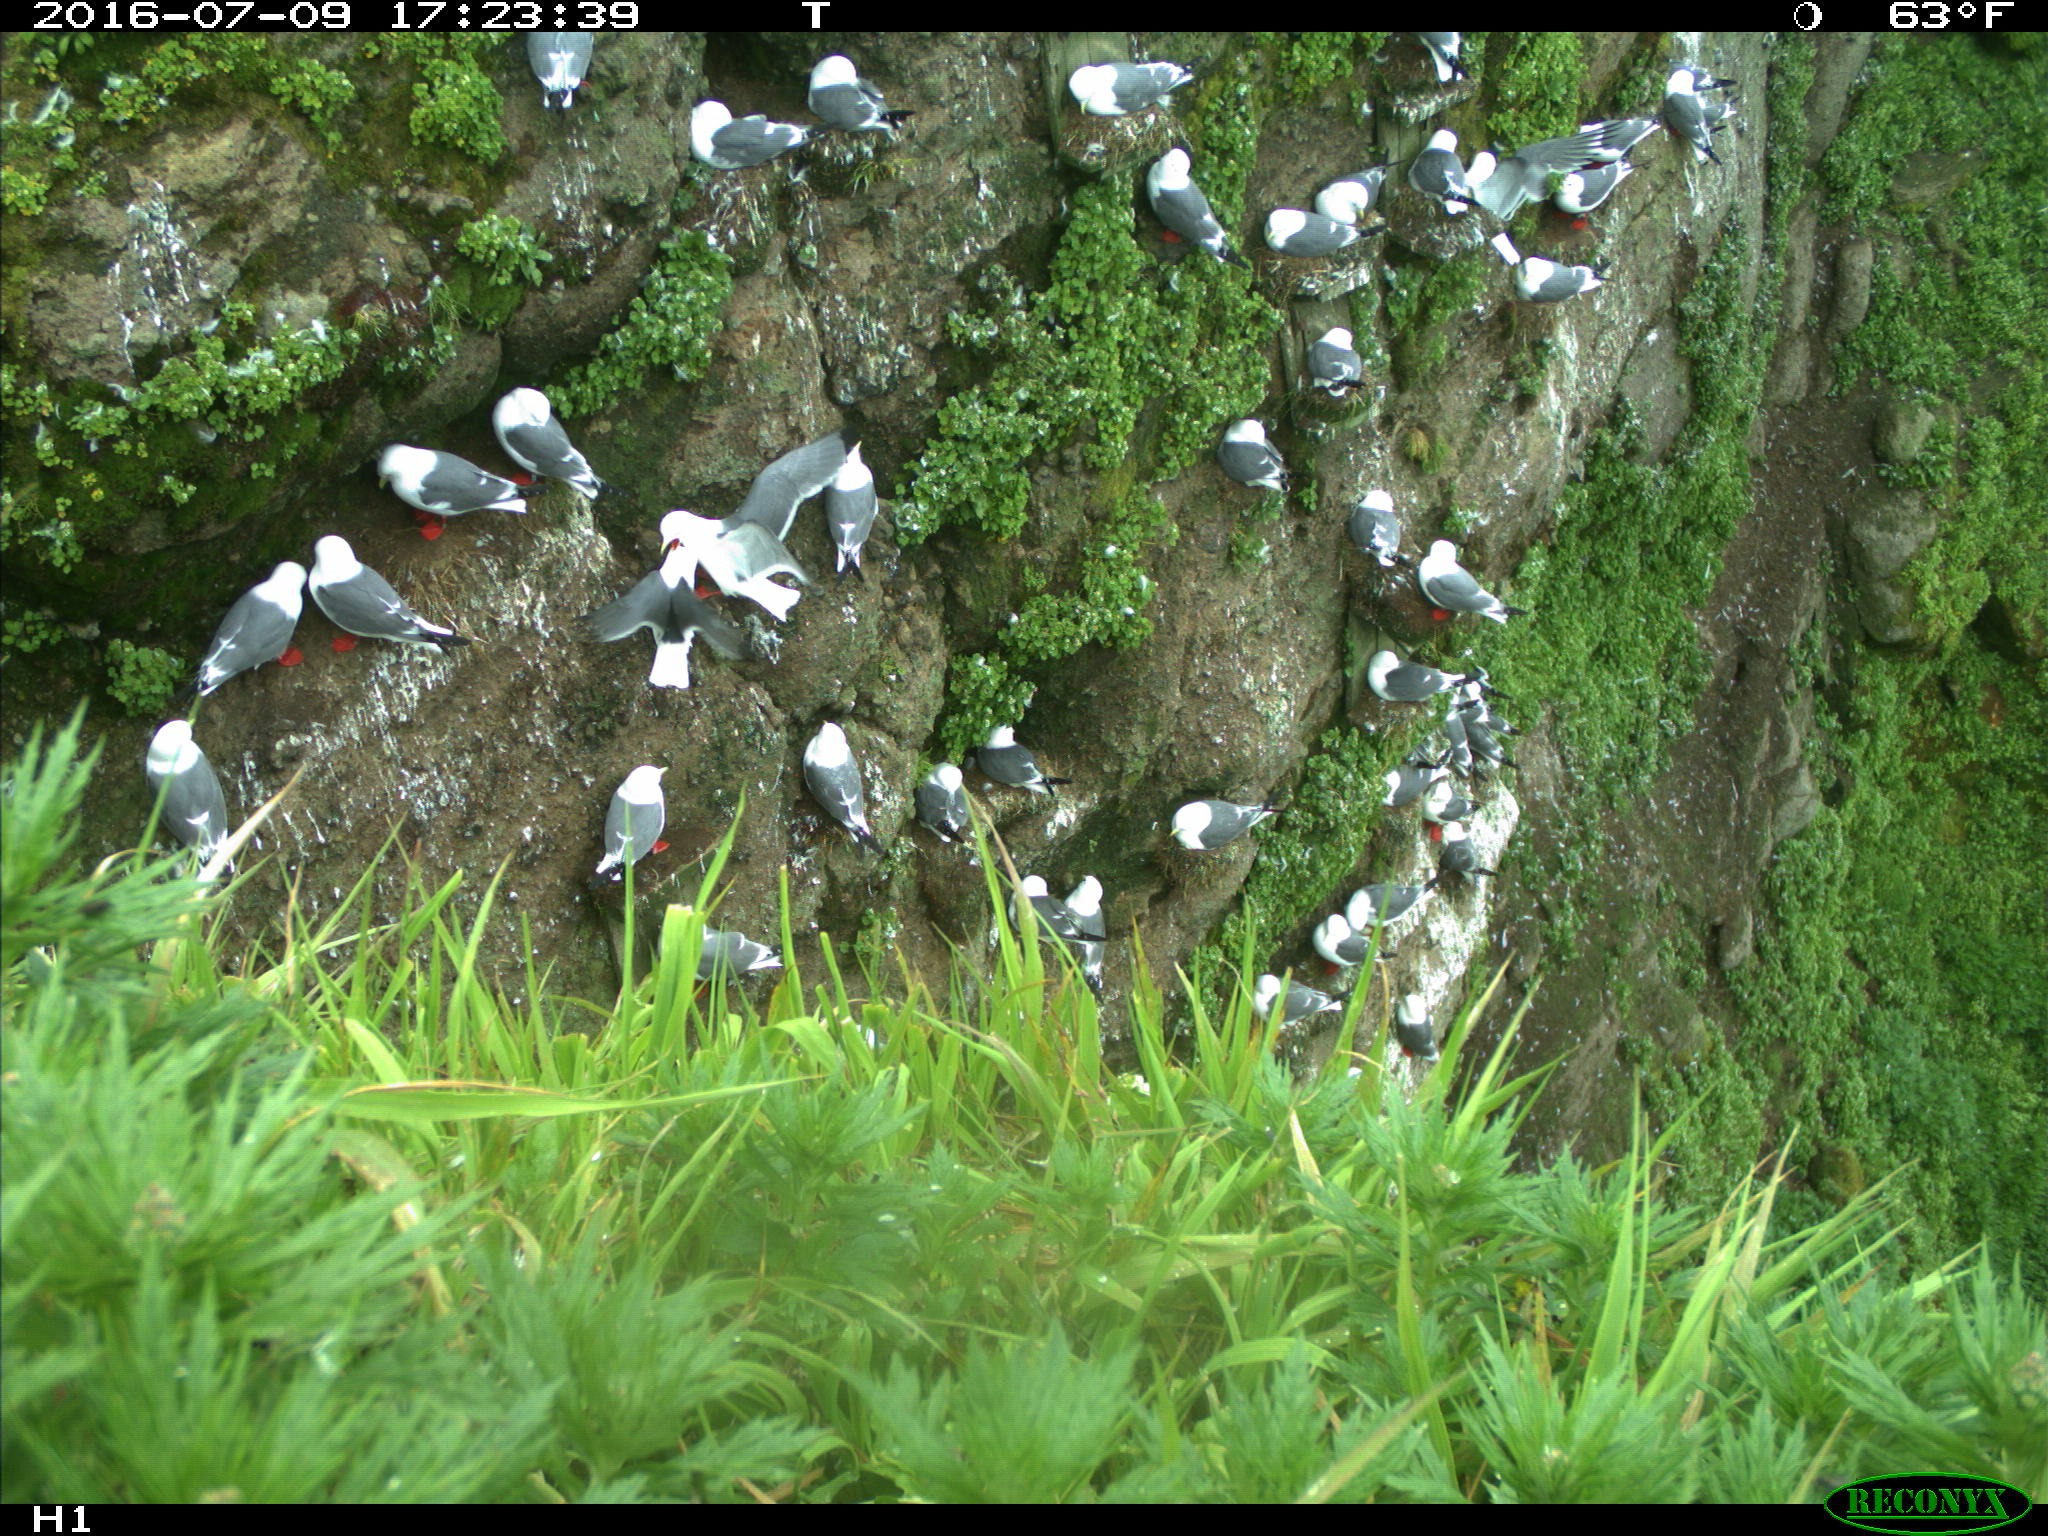Kittiwake: (116, 671, 287, 868), (277, 524, 461, 695), (785, 691, 921, 876), (356, 419, 531, 563), (181, 537, 311, 726), (650, 478, 819, 621), (605, 537, 758, 692), (961, 671, 1074, 842), (484, 382, 621, 508), (1121, 132, 1232, 274), (606, 747, 732, 871), (789, 40, 921, 158), (1050, 37, 1213, 131), (818, 429, 937, 545), (1258, 168, 1367, 292), (1138, 774, 1284, 866), (669, 90, 821, 174), (1288, 905, 1392, 1013), (1646, 56, 1737, 179), (671, 892, 774, 999), (1505, 240, 1637, 319), (1247, 939, 1322, 1075), (1401, 131, 1530, 210), (1221, 403, 1314, 508), (1297, 316, 1388, 421), (1421, 524, 1496, 650), (906, 737, 987, 854), (1316, 144, 1408, 245), (1546, 158, 1625, 274), (992, 863, 1072, 976), (1350, 628, 1463, 705), (1551, 132, 1646, 223), (1579, 90, 1655, 203), (1342, 870, 1438, 957), (1066, 865, 1124, 1000), (1408, 766, 1479, 876), (1392, 984, 1467, 1071), (1350, 478, 1416, 576), (526, 34, 601, 118)
